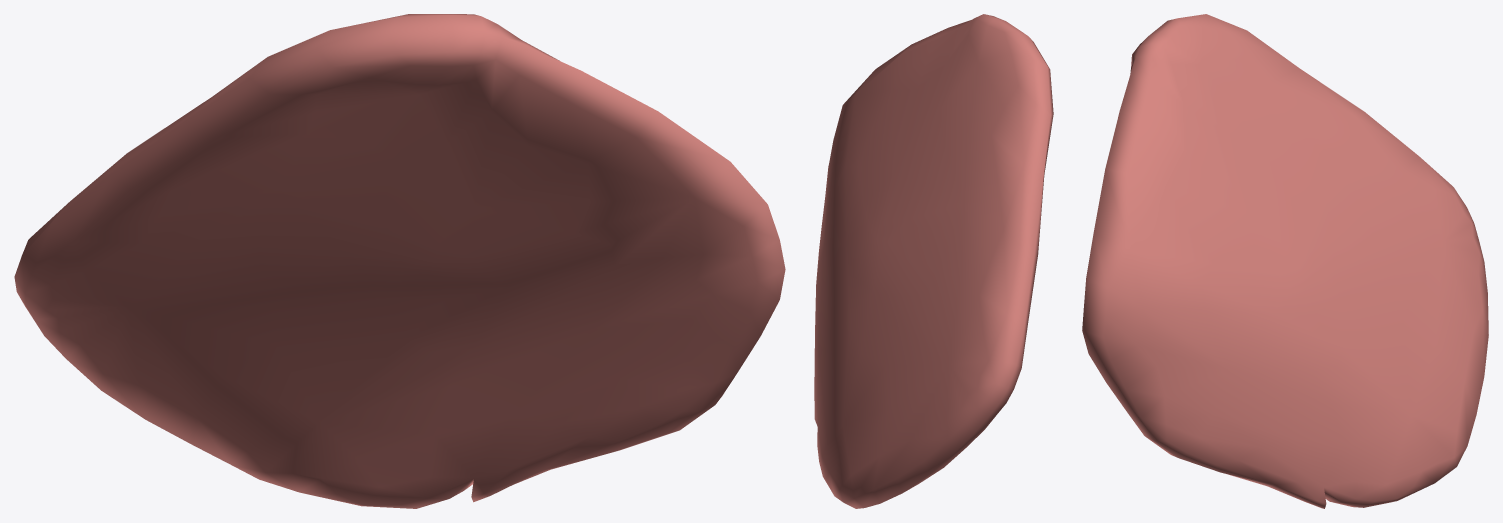
The picture shows the model from 3 angles, left to right: view 1: azimuth 30°, elevation 25°; view 2: azimuth 150°, elevation 25°; view 3: azimuth 270°, elevation 25°; orthographic projection. The views are drawn at different scales.
Visible parts, largest first — view 1: ZA_0d4045ea2deae8b6; view 2: ZA_0d4045ea2deae8b6; view 3: ZA_0d4045ea2deae8b6.
Boxes of the visible parts, bbox=[...] form: ZA_0d4045ea2deae8b6: bbox=[14, 14, 785, 508]; ZA_0d4045ea2deae8b6: bbox=[814, 14, 1053, 508]; ZA_0d4045ea2deae8b6: bbox=[1082, 14, 1488, 508].
Bounding box in the file's own units: 0.00482 × 0.00552 × 0.00462.
